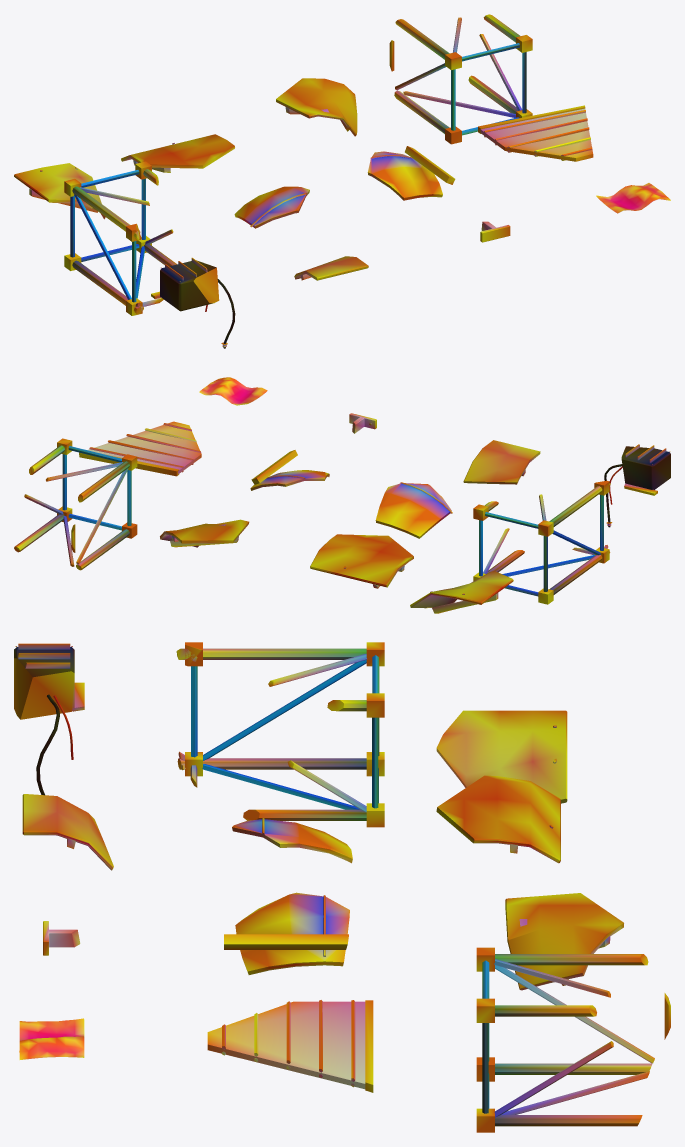
Rendered from debris.glb.
3 views of the same model, one above another, from view 1: azimuth 30°, elevation 25°; view 2: azimuth 150°, elevation 25°; view 3: azimuth 270°, elevation 25° (orthographic). The views are drawn at different scales.
Parts seen in each view (by area): view 1: DEBRIS; view 2: DEBRIS; view 3: DEBRIS.
Boxes of the visible parts, x1,y1,x2,y2 form: DEBRIS: [14, 14, 670, 348]; DEBRIS: [14, 377, 670, 613]; DEBRIS: [14, 642, 670, 1132].
Size of the model in its own units: 4.5 by 0.767 by 3.26.
